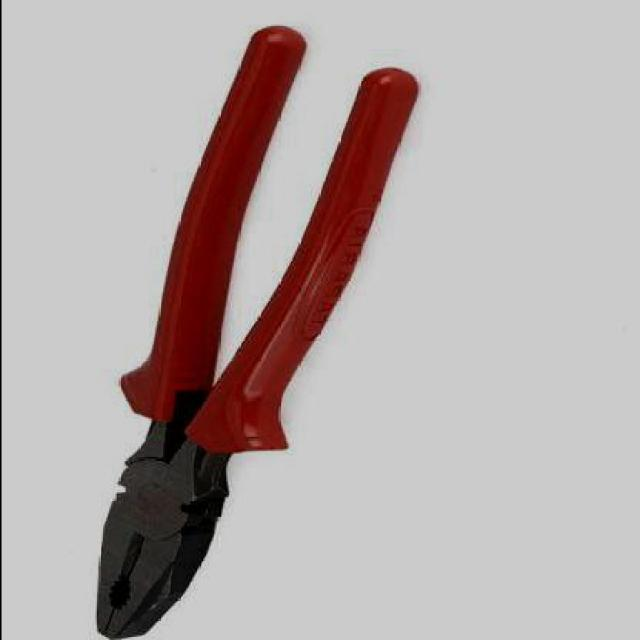pliers: (84, 27, 420, 638)
